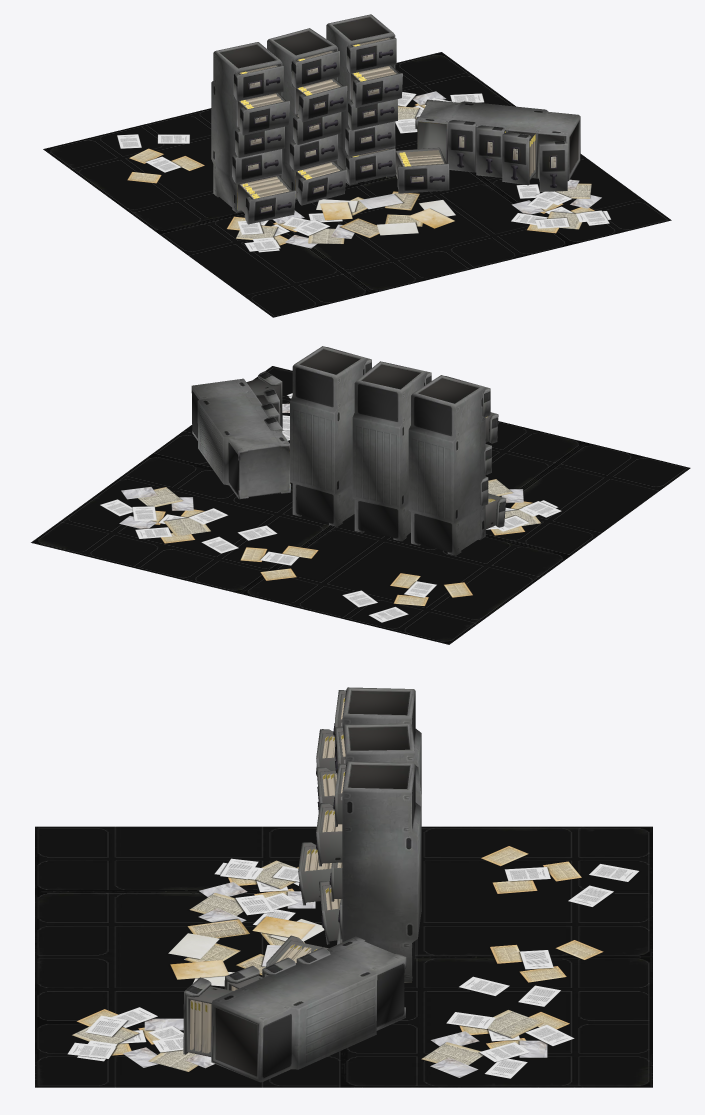
Rendered from cabinets.glb.
3 renders of one model, top to bottom at view 1: azimuth 30°, elevation 25°; view 2: azimuth 150°, elevation 25°; view 3: azimuth 270°, elevation 25°, orthographic. The views are drawn at different scales.
Parts seen in each view (by area): view 1: Plane__0, bakeObject.065_low.005_MAT_FilingCabinet_0, Plane.005_Papers 2_0, Plane.003_Papers 3_0, Plane.006_Papers 4_0, Plane.002_Papers_0; view 2: Plane__0, bakeObject.065_low.005_MAT_FilingCabinet_0, Plane.006_Papers 4_0, Plane.002_Papers_0, Plane.005_Papers 2_0; view 3: Plane__0, bakeObject.065_low.005_MAT_FilingCabinet_0, Plane.005_Papers 2_0, Plane.006_Papers 4_0, Plane.002_Papers_0, Plane.003_Papers 3_0.
Boxes of the visible parts, left/top/right/bottom form: Plane__0: left=43, top=52, right=671, bottom=317; bakeObject.065_low.005_MAT_FilingCabinet_0: left=211, top=14, right=580, bottom=224; Plane.005_Papers 2_0: left=227, top=179, right=611, bottom=252; Plane.003_Papers 3_0: left=316, top=191, right=456, bottom=238; Plane.006_Papers 4_0: left=117, top=134, right=204, bottom=183; Plane.002_Papers_0: left=395, top=91, right=485, bottom=133; Plane__0: left=31, top=366, right=690, bottom=644; bakeObject.065_low.005_MAT_FilingCabinet_0: left=191, top=346, right=506, bottom=555; Plane.006_Papers 4_0: left=201, top=525, right=472, bottom=622; Plane.002_Papers_0: left=99, top=486, right=227, bottom=543; Plane.005_Papers 2_0: left=282, top=393, right=561, bottom=535; Plane__0: left=35, top=826, right=652, bottom=1087; bakeObject.065_low.005_MAT_FilingCabinet_0: left=183, top=687, right=421, bottom=1082; Plane.005_Papers 2_0: left=67, top=858, right=315, bottom=1072; Plane.006_Papers 4_0: left=458, top=846, right=640, bottom=1007; Plane.002_Papers_0: left=420, top=1010, right=574, bottom=1078; Plane.003_Papers 3_0: left=167, top=916, right=324, bottom=986.
Bounding box in the file's own units: 6.82 × 2.16 × 6.86.
6 materials, 6 textured.
